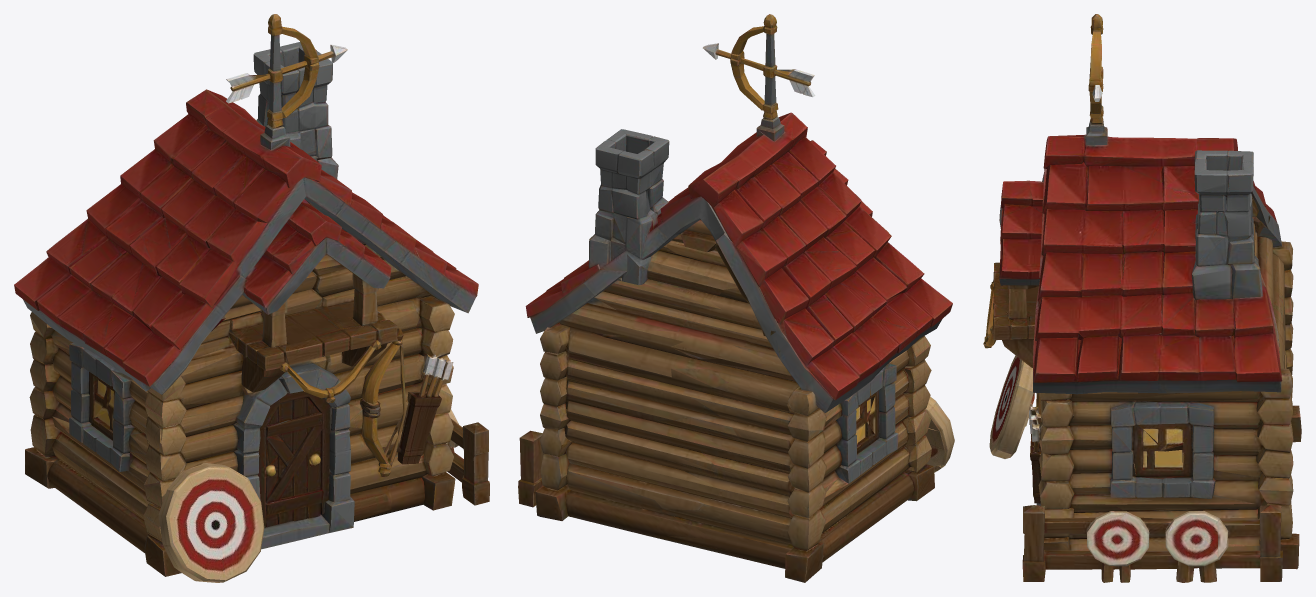
File: hut_ai.glb
The picture shows the model from 3 angles, left to right: view 1: azimuth 30°, elevation 25°; view 2: azimuth 150°, elevation 25°; view 3: azimuth 270°, elevation 25°; orthographic projection. The views are drawn at different scales.
Visible parts, largest first — view 1: output_unwrapped; view 2: output_unwrapped; view 3: output_unwrapped.
Part boxes in pixels (<box>): output_unwrapped: <box>14,14,489,582</box>; output_unwrapped: <box>518,14,954,582</box>; output_unwrapped: <box>983,14,1301,582</box>.
Bounding box in the file's own units: 5.58 × 7.6 × 4.49.
Materials: 1 (1 with a texture image).
